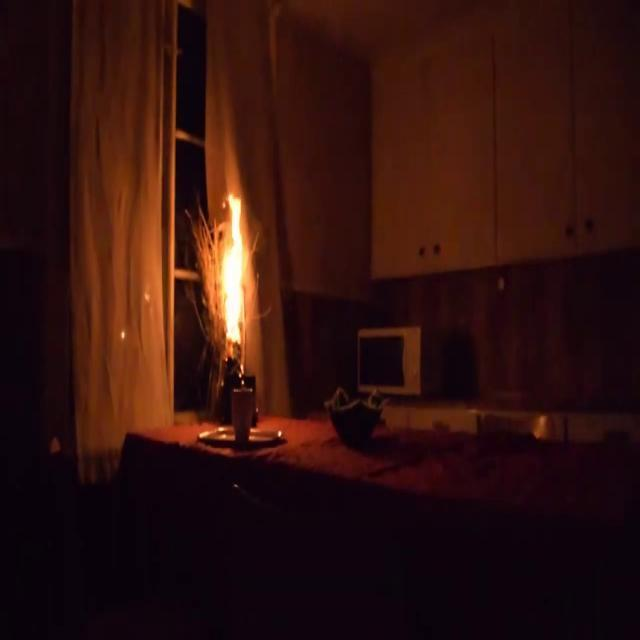Fire: (214, 185, 258, 363)
